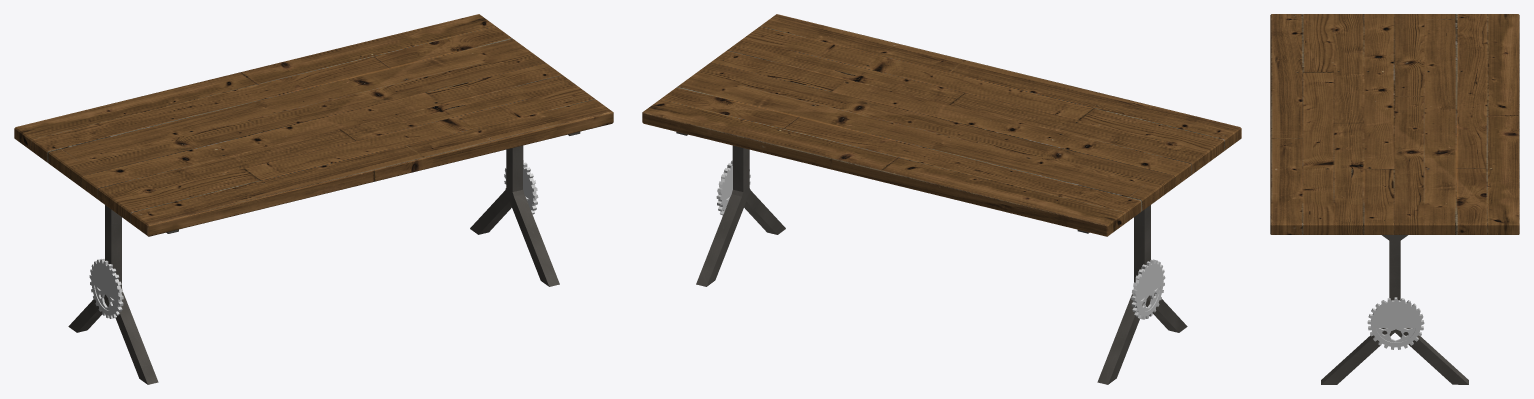
The model's file is table.fbx.
3 renders of one model, left to right at view 1: azimuth 30°, elevation 25°; view 2: azimuth 150°, elevation 25°; view 3: azimuth 270°, elevation 25°, orthographic. The views are drawn at different scales.
Parts seen in each view (by area): view 1: Cube; view 2: Cube; view 3: Cube.
Part boxes in pixels (x1,y1,x2,y2): Cube: [14, 14, 613, 384]; Cube: [642, 14, 1241, 384]; Cube: [1270, 14, 1519, 384].
Bounding box in the file's own units: 262 × 99.97 × 131.
